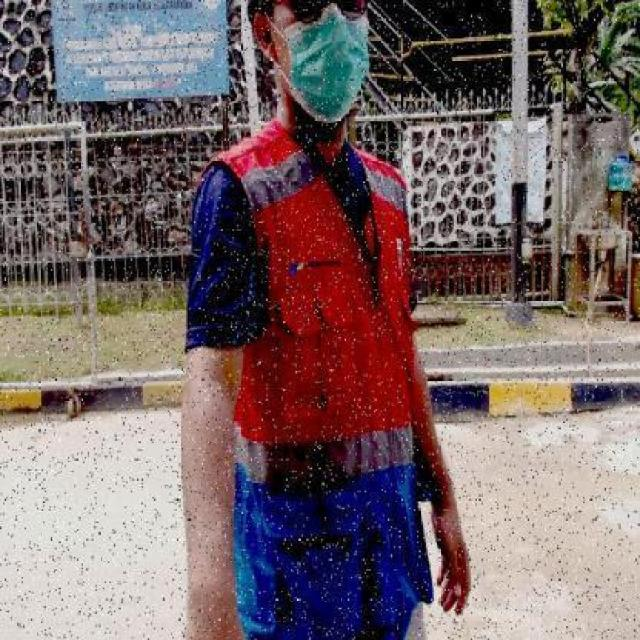Mask: (280, 13, 372, 121)
